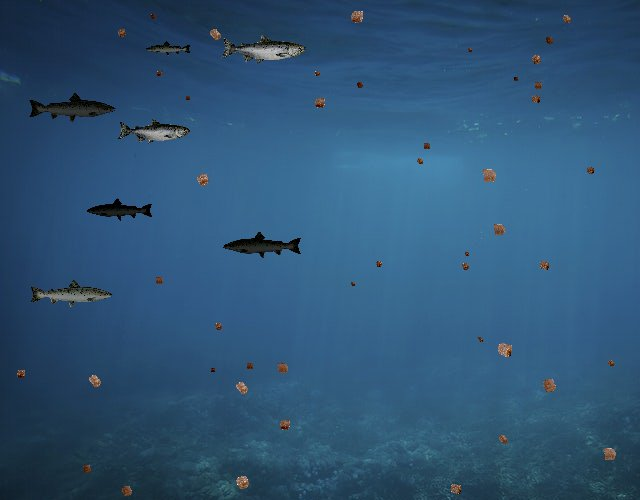Fish: (27, 91, 117, 124), (28, 278, 114, 309), (220, 34, 306, 65), (222, 230, 303, 259), (117, 118, 190, 145), (86, 197, 154, 222), (145, 41, 192, 58)
Pellet: (475, 161, 503, 189), (487, 217, 511, 241), (203, 23, 227, 47), (493, 429, 513, 449), (526, 49, 546, 69), (311, 67, 324, 80), (462, 248, 472, 258)
